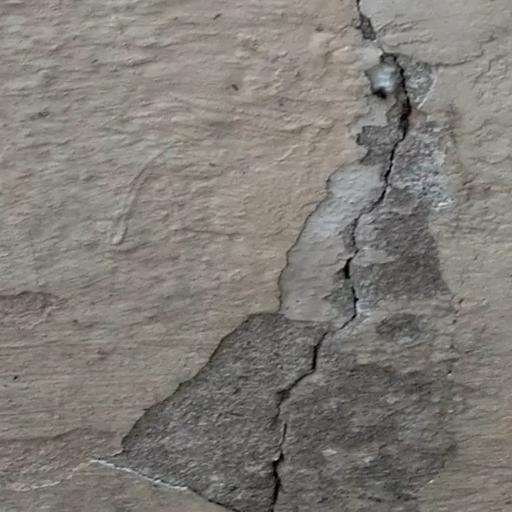major_crack: (229, 0, 429, 512)
